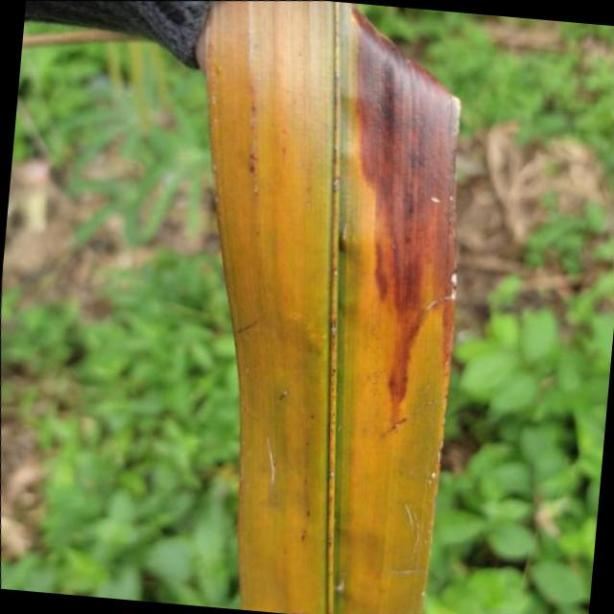Megnesium: (200, 0, 460, 614)
